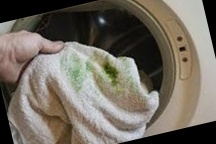earth: (100, 60, 123, 90), (67, 63, 86, 91), (84, 61, 96, 74)
